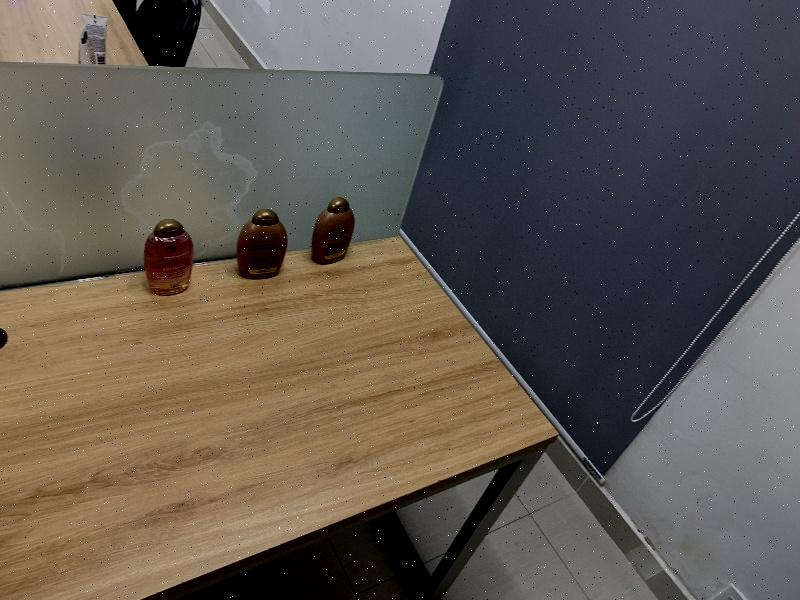BrazilianKeratinTherapy_Shampoo: (311, 197, 355, 265)
BrazilianKerationTherapy_Conditioner: (236, 209, 288, 280)
CherryBlossom_Shampoo: (144, 218, 194, 296)
